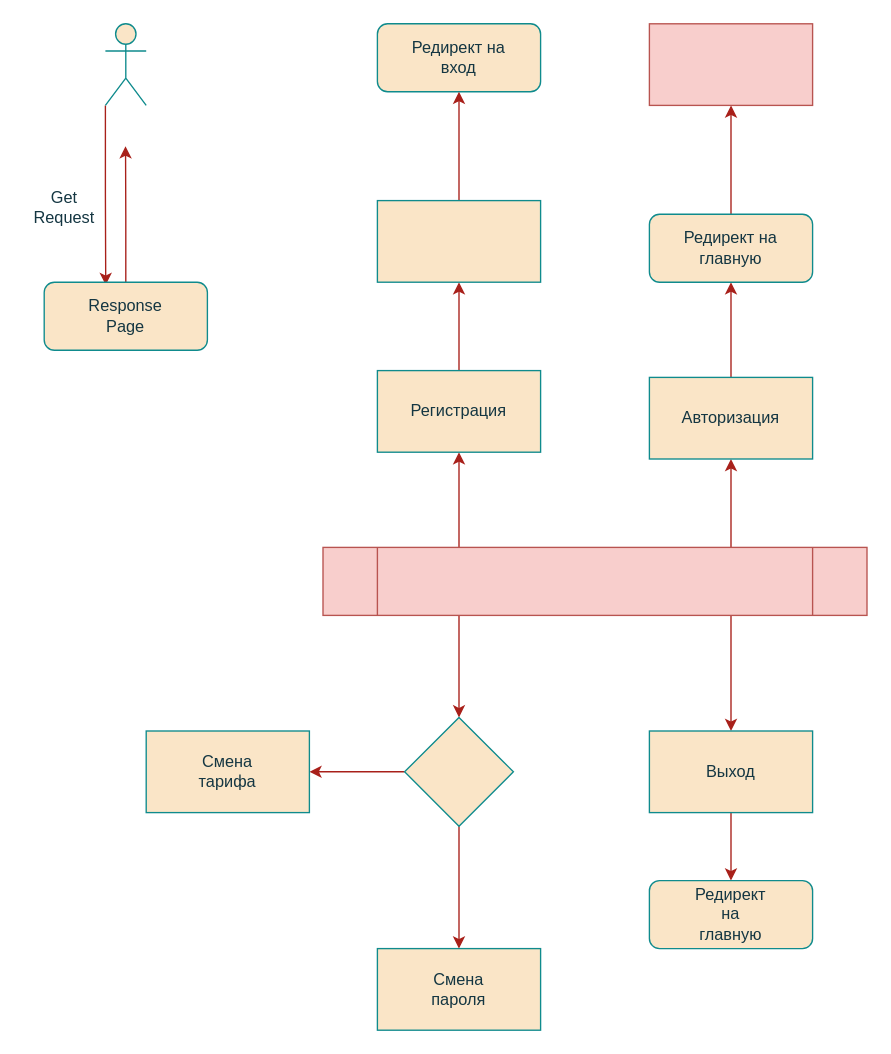
This 891x1054 diagram has some shape labels left out. Each missing label, with the centre of its shape:
"User" goes at (125,63).
"Выбор тарифа" goes at (730,63).
"Настройки" goes at (458,771).
"Отправка почты" goes at (458,240).
"Система пользователей" goes at (594,580).
